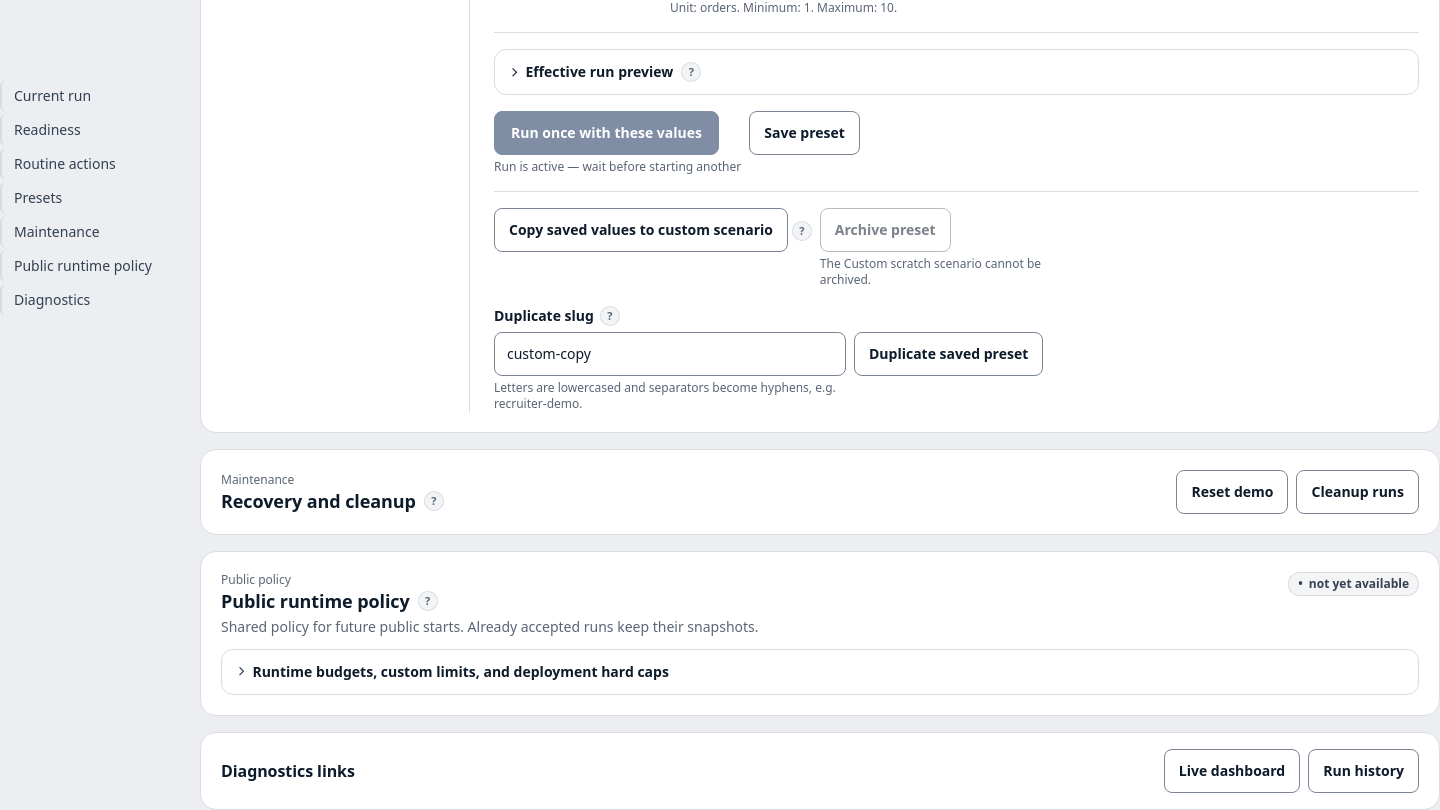
Test: admin feature controllers › reconciles reset recovery into current-run and preset start gating
(page scrolled)
Expected: the button "Run once with these values" is disabled, 494,111 -> 719,155
Click the button "Reset demo" at [1232, 492], box 1176,470 -> 1288,514
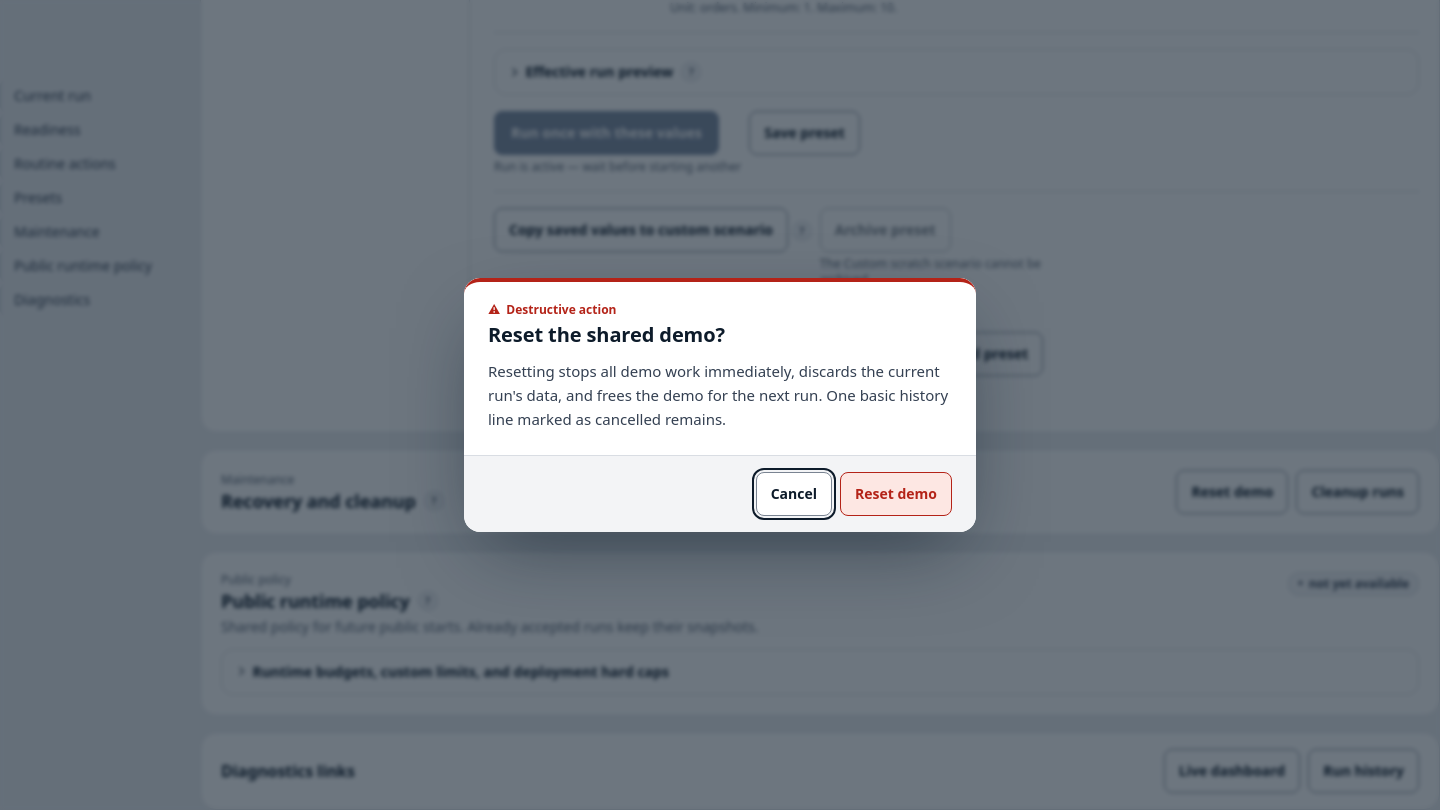
Click the button "Reset demo" at [896, 494], box 840,472 -> 952,516
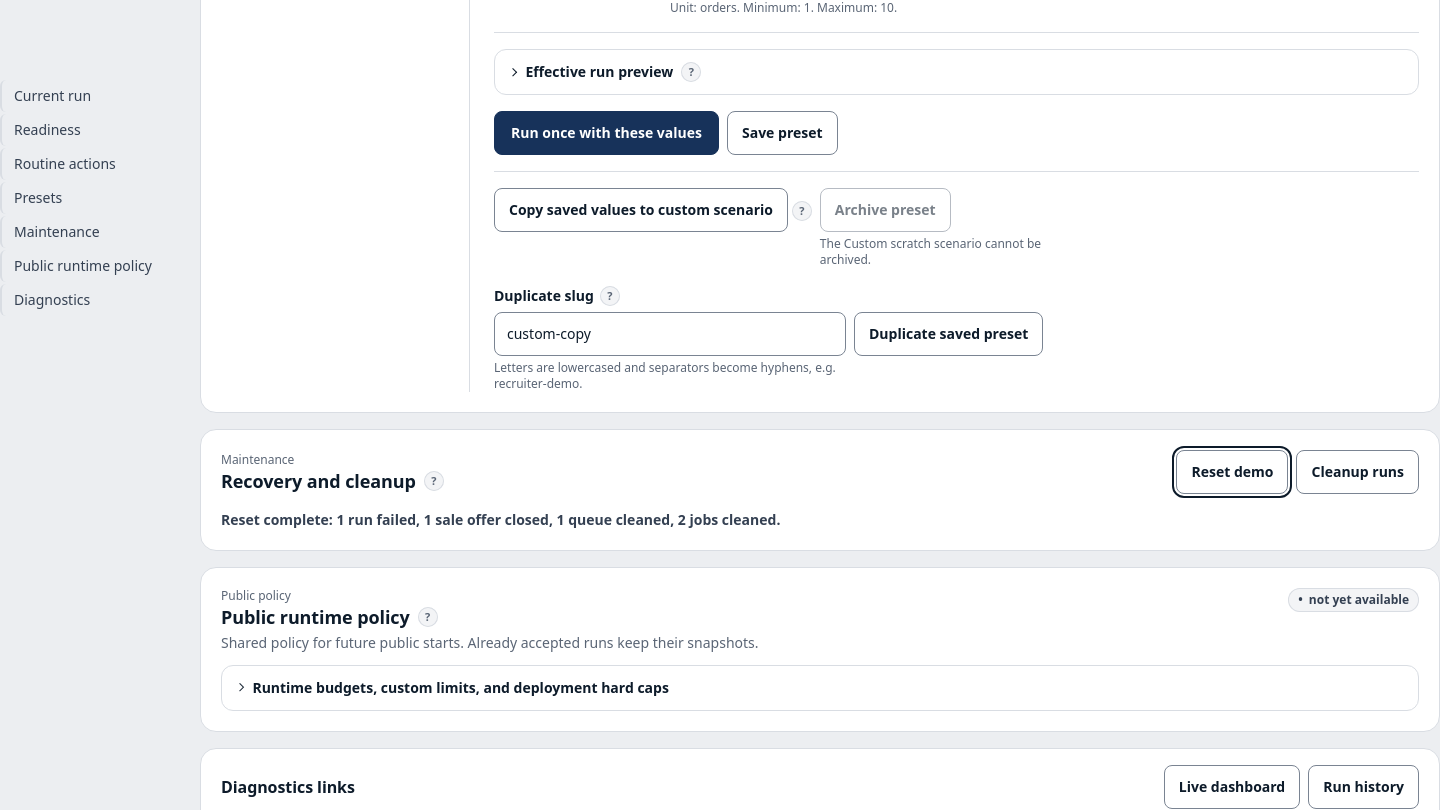
Expected: the button "Run once with these values" is enabled, 494,111 -> 719,155
Expected: the element "Recovery and cleanup" shows "1 run failed, 1 sale offer closed, 1 queue cleaned, 2 jobs cleaned.", 221,510 -> 780,529
